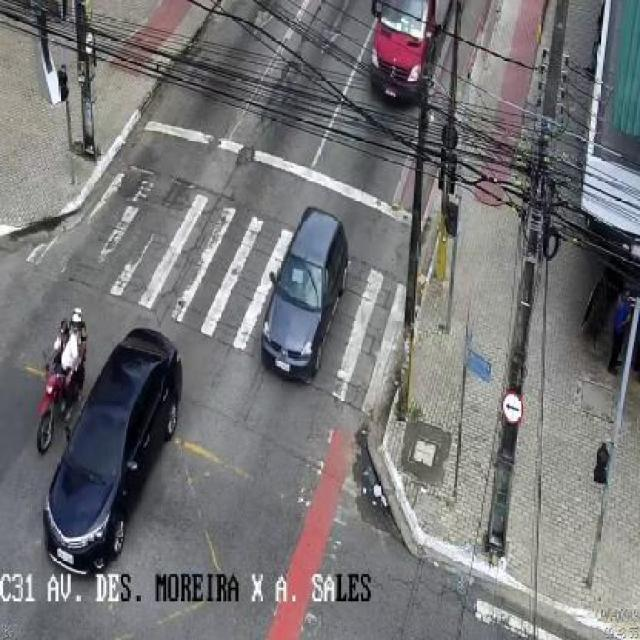Car: (43, 318, 187, 589), (254, 191, 352, 391)
Cycle: (27, 283, 95, 463)
Van: (355, 0, 444, 126)
